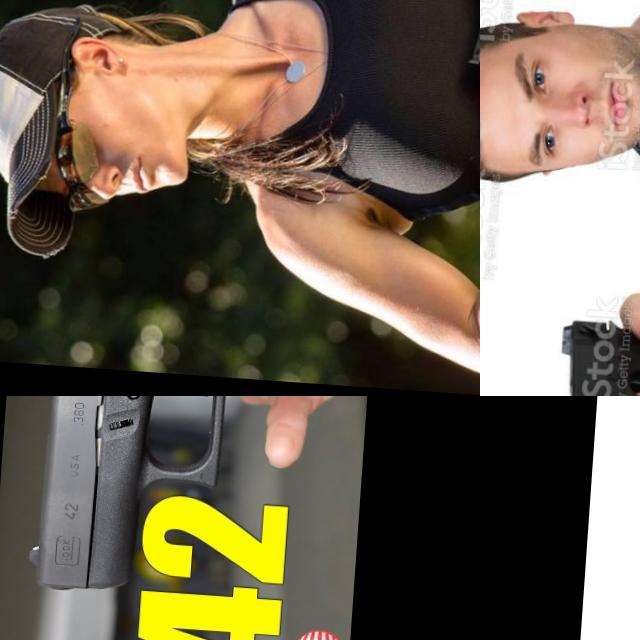handgun: (23, 396, 347, 616), (548, 314, 640, 396)
